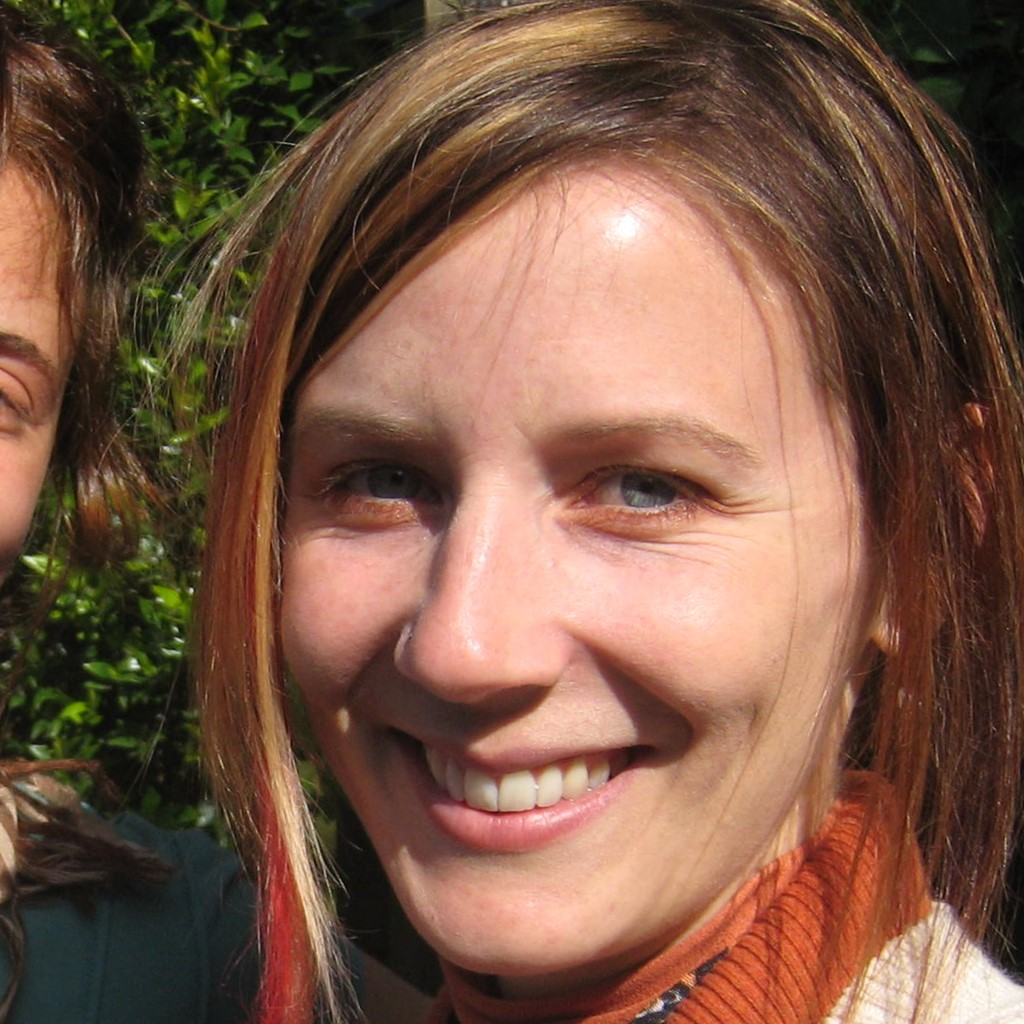sin_mascara: (271, 105, 892, 972)
